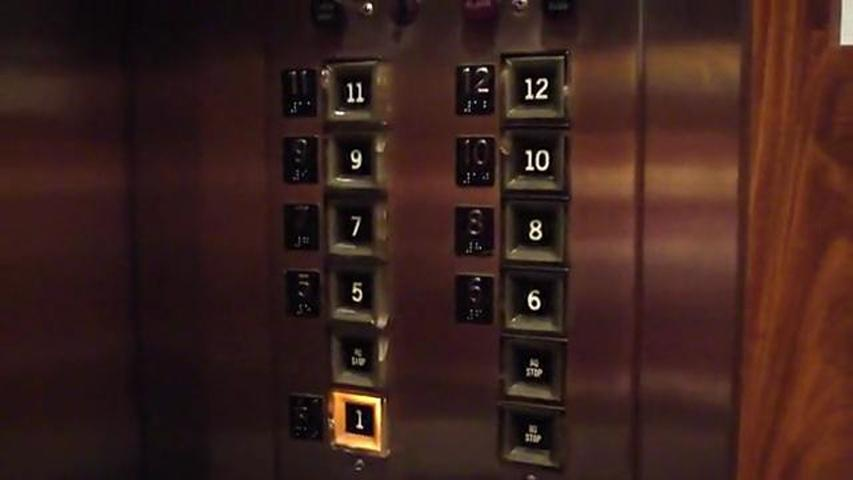1: (322, 381, 394, 460)
10: (492, 125, 573, 200), (447, 129, 497, 192)
11: (317, 56, 394, 132), (278, 63, 318, 121)
12: (495, 47, 577, 130), (448, 59, 497, 121)
5: (323, 257, 393, 329), (281, 265, 326, 320)
6: (496, 262, 569, 337), (448, 270, 499, 327)
7: (320, 191, 392, 263), (279, 200, 322, 254)
8: (497, 196, 573, 267), (450, 200, 498, 261)
9: (317, 121, 390, 196), (273, 132, 322, 188)
blur: (495, 399, 572, 472), (495, 332, 567, 404), (326, 321, 393, 392), (284, 386, 326, 445)
